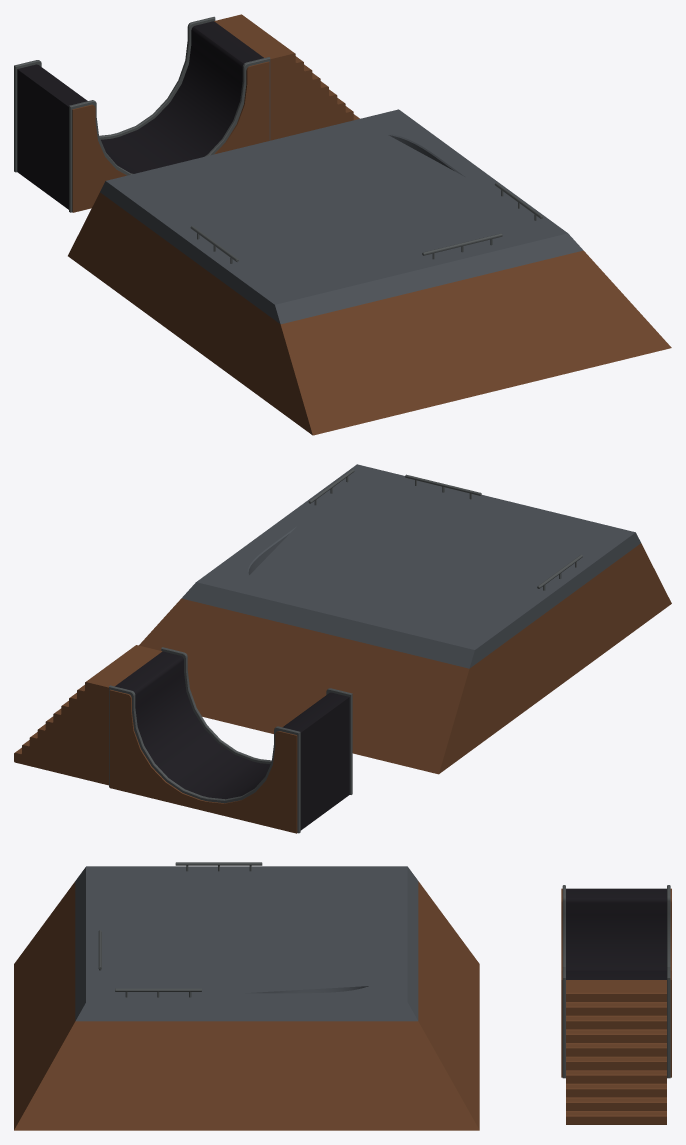
Rendered from Skate_park.fbx.
3 renders of one model, top to bottom at view 1: azimuth 30°, elevation 25°; view 2: azimuth 150°, elevation 25°; view 3: azimuth 270°, elevation 25°, orthographic. The views are drawn at different scales.
Visible parts, largest first — view 1: Skate_park_2, Skate_park_1, Skate_park_stairs; view 2: Skate_park_2, Skate_park_1, Skate_park_stairs; view 3: Skate_park_2, Skate_park_stairs, Skate_park_1.
Part boxes in pixels (<box>): Skate_park_2: <box>68,109,671,435</box>; Skate_park_1: <box>14,16,270,212</box>; Skate_park_stairs: <box>214,14,359,140</box>; Skate_park_2: <box>139,464,671,774</box>; Skate_park_1: <box>109,647,352,833</box>; Skate_park_stairs: <box>14,645,162,785</box>; Skate_park_2: <box>14,862,479,1130</box>; Skate_park_stairs: <box>566,980,666,1124</box>; Skate_park_1: <box>561,885,671,1078</box>.
Size of the model in its own units: 730 by 217 by 1220.
